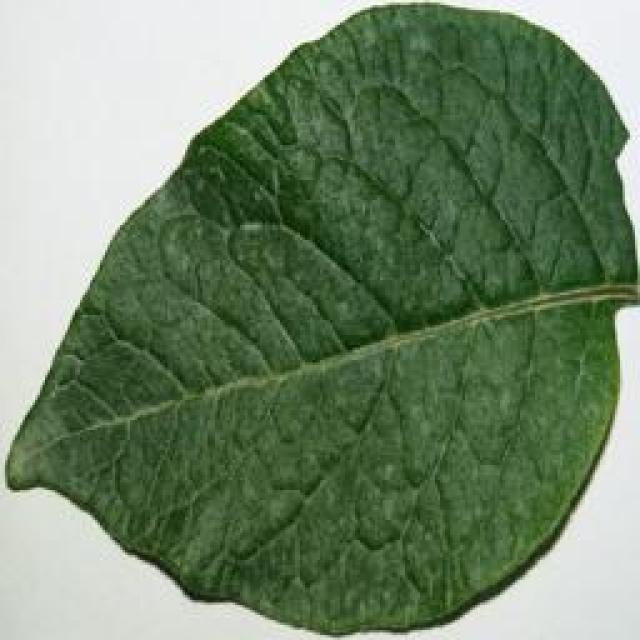Potato_Healthy: (3, 7, 632, 634)
